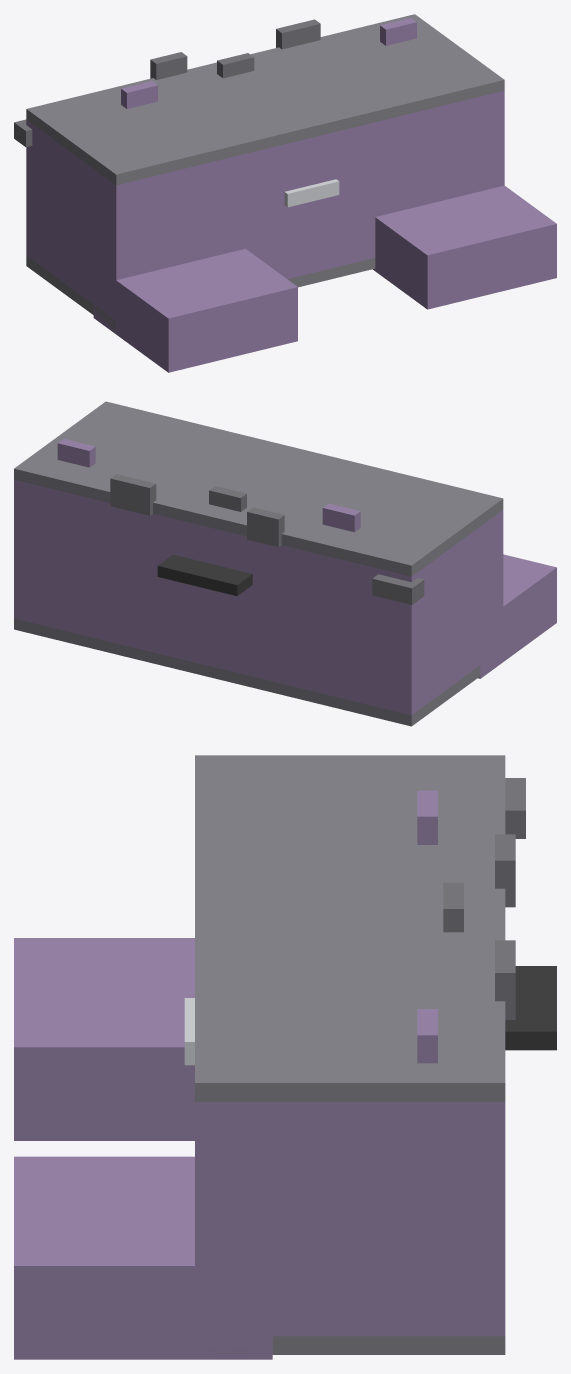
The model's file is controller.gltf.
The picture shows the model from 3 angles, top to bottom: view 1: azimuth 30°, elevation 25°; view 2: azimuth 150°, elevation 25°; view 3: azimuth 270°, elevation 25°; orthographic projection. The views are drawn at different scales.
Visible parts, largest first — view 1: controller; view 2: controller; view 3: controller.
Boxes of the visible parts, x1=… form: controller: x1=14, y1=14, x2=556, y2=372; controller: x1=14, y1=401, x2=556, y2=726; controller: x1=14, y1=755, x2=556, y2=1359.
Size of the model in its own units: 0.1525 by 0.065 by 0.105.
